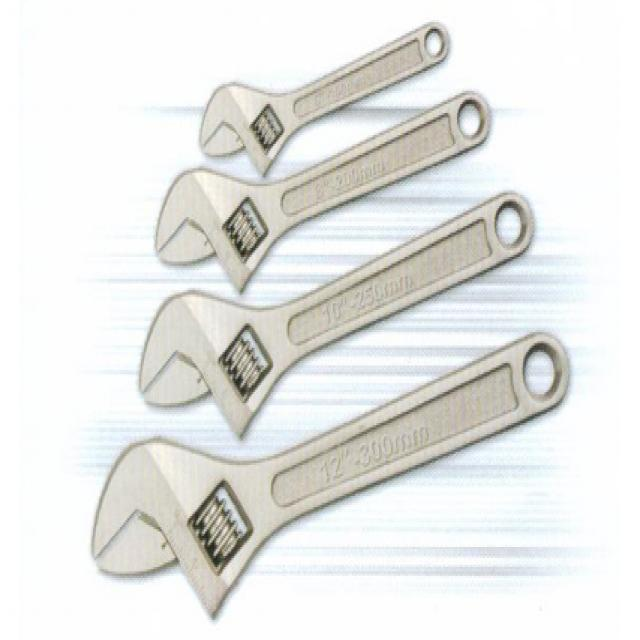wrench: (138, 187, 536, 443), (149, 87, 497, 288), (199, 15, 453, 180)
